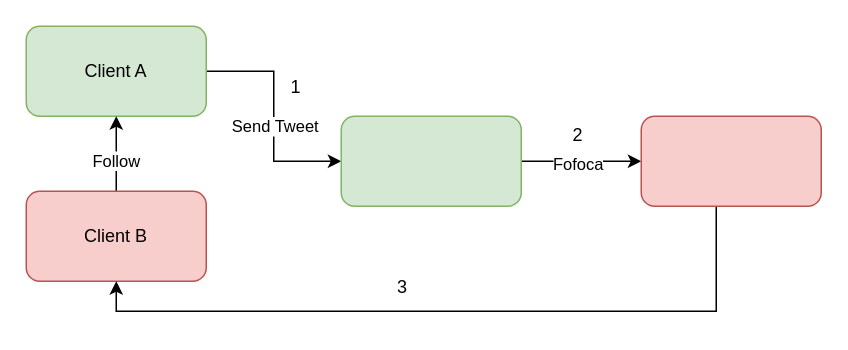
Image size: 848x350. Some labels were removed from this diagram. The shapes that lost their labels are listed below. From the top down, each one's centre as x and y in pixels, then its label:
the point at 430,160: Server
the point at 730,160: ServerPubSub
